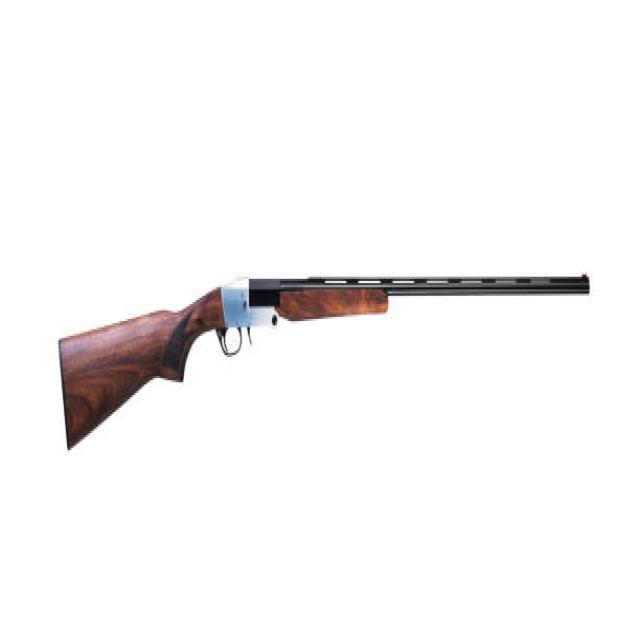rifle: (59, 252, 594, 460)
